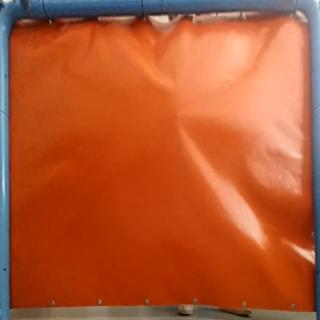Hit-hRxx: (172, 111, 182, 121)
